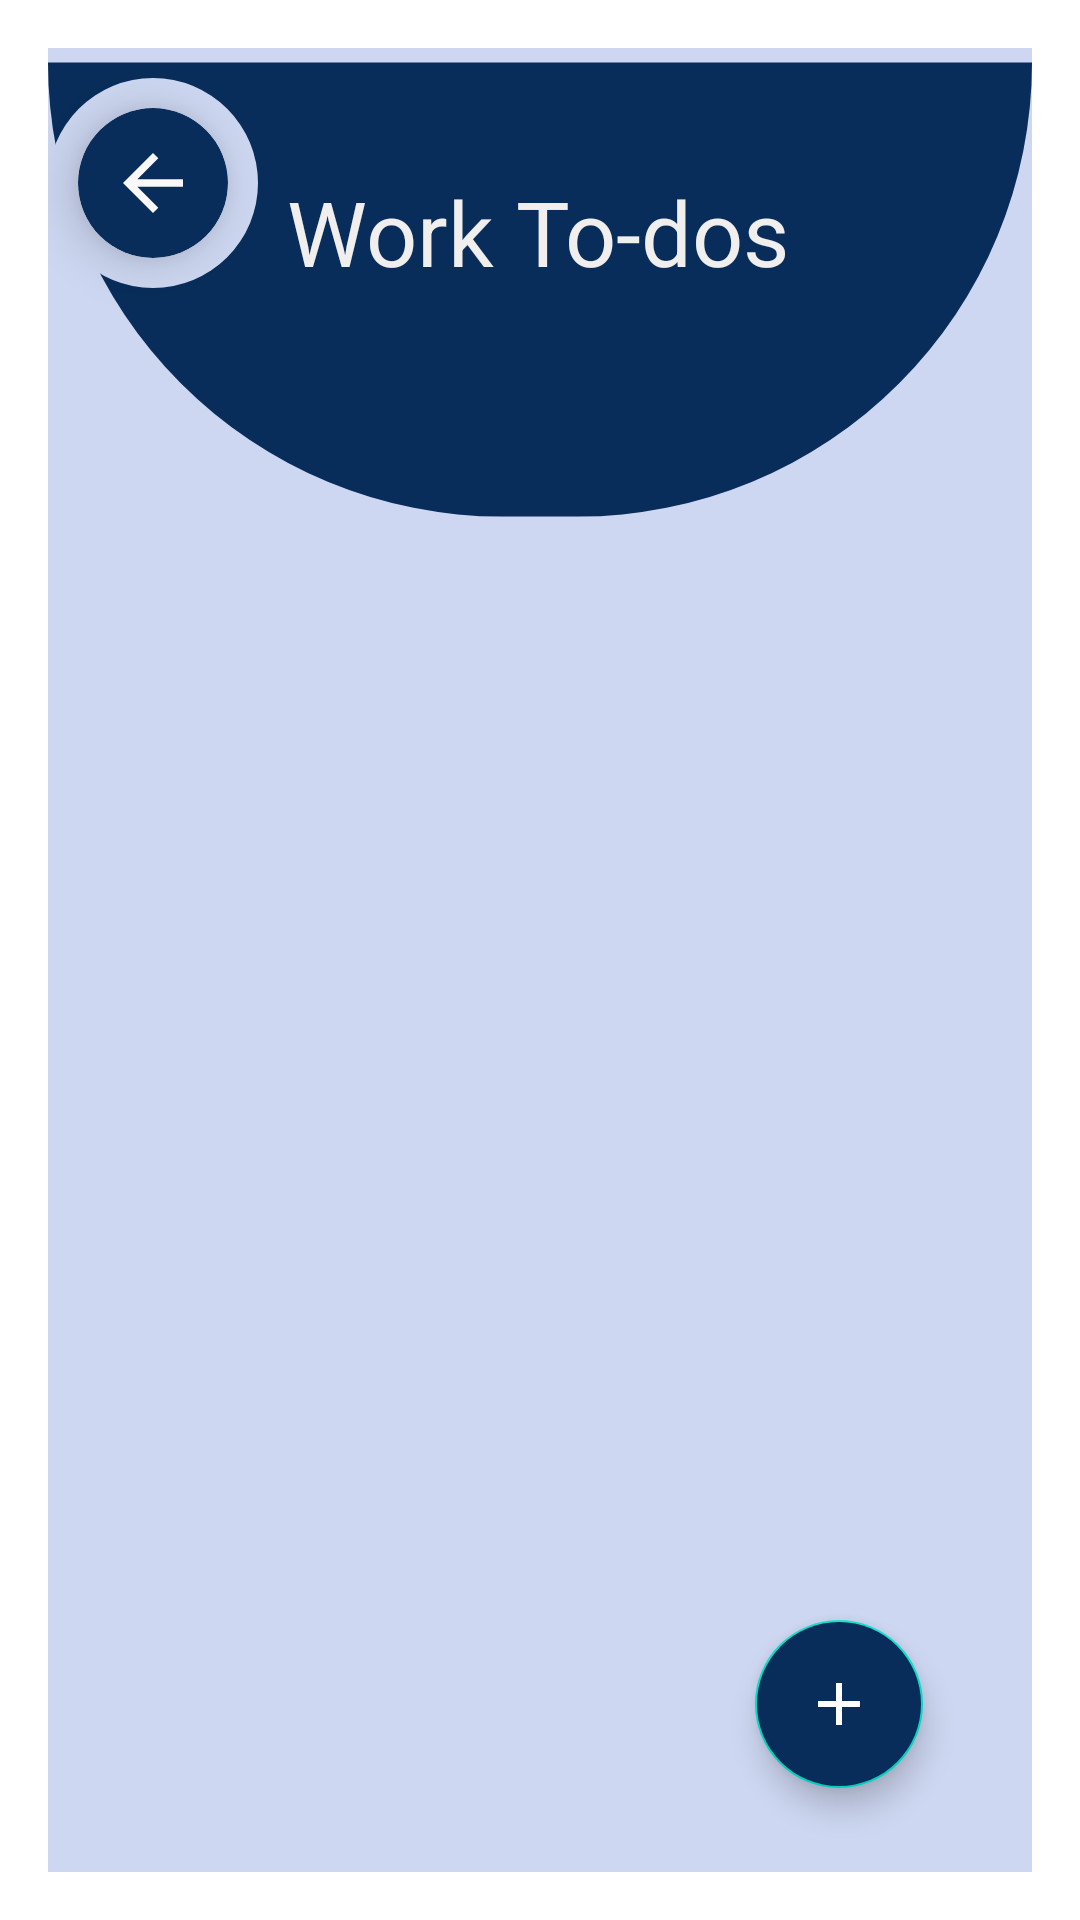

Icons on this 1080 × 1920 Android screen, each with its box as box=[x1, y1, x2, y2]:
add: box=[755, 1620, 875, 1740]
